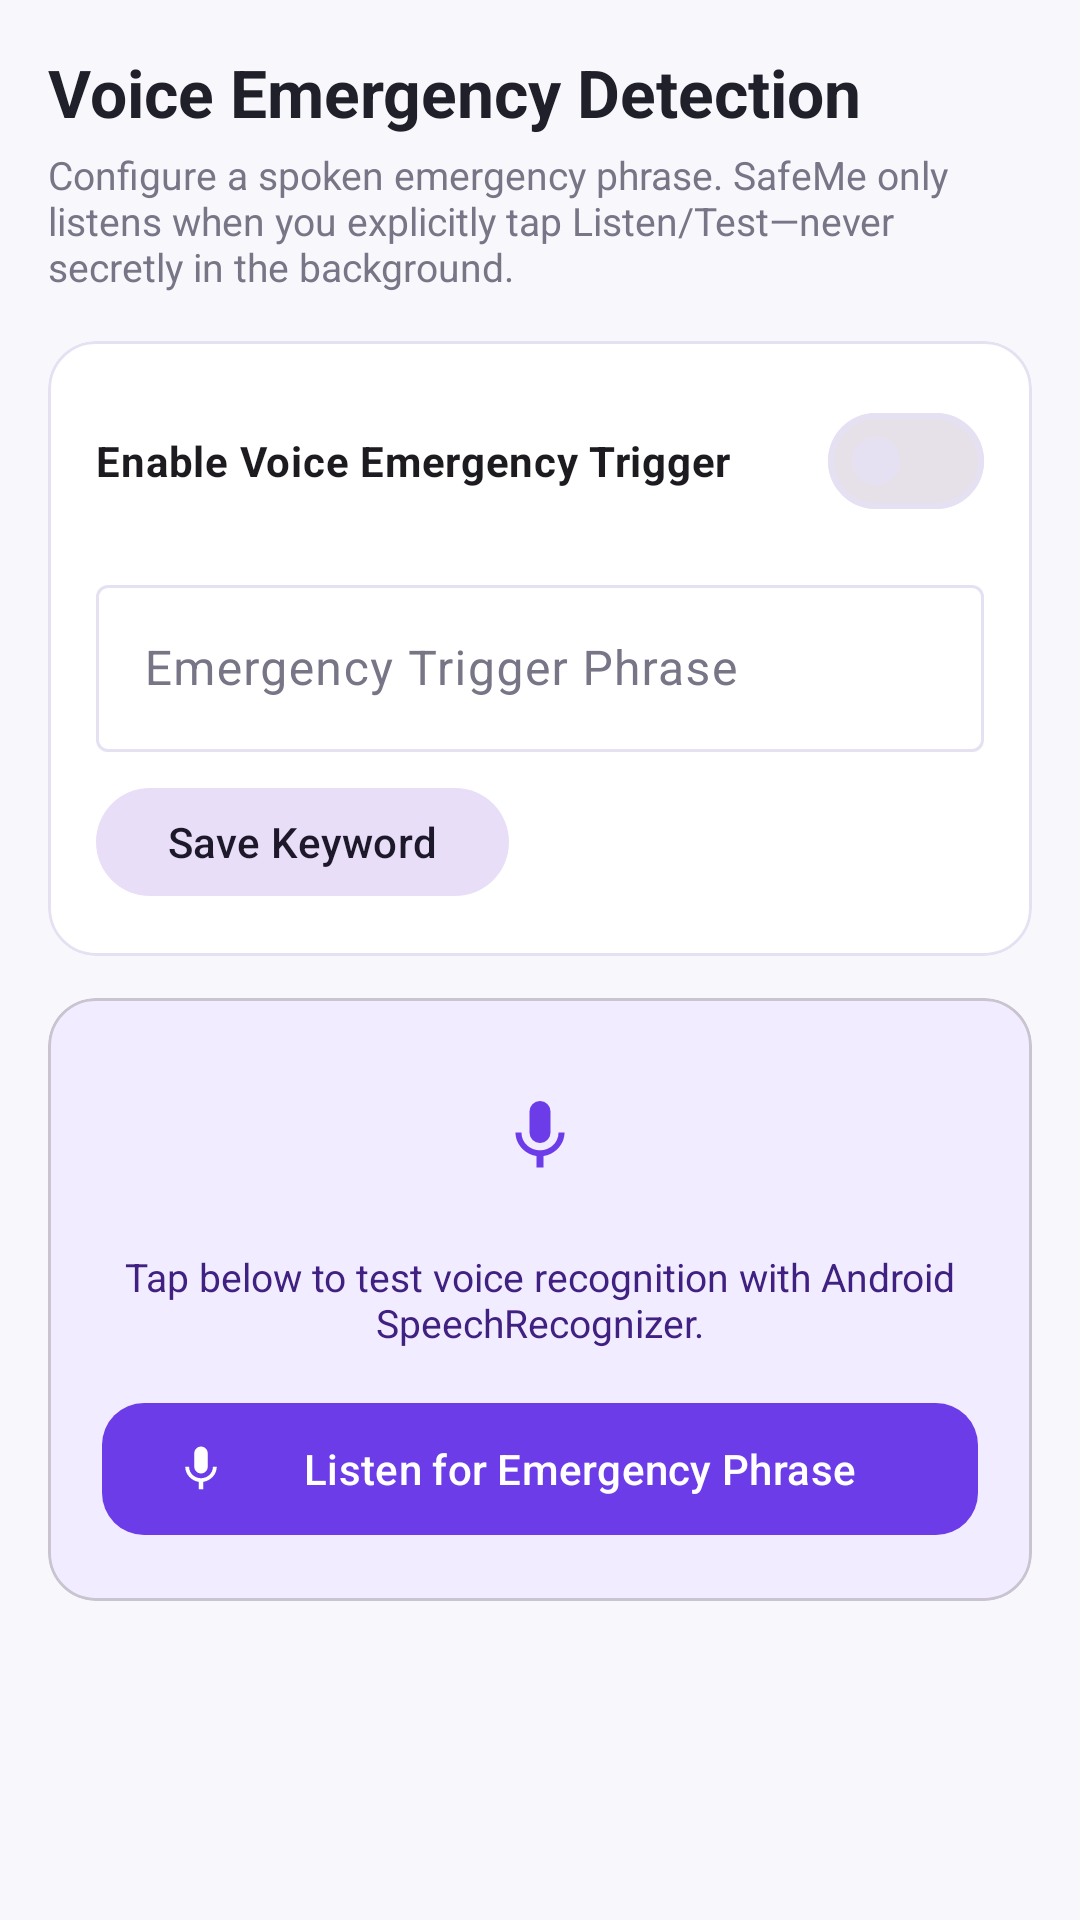

Icons on this 1080 x 1920 Android screen, each with the point to tap as (x=x, y=y):
Microphone: (x=540, y=1134)
